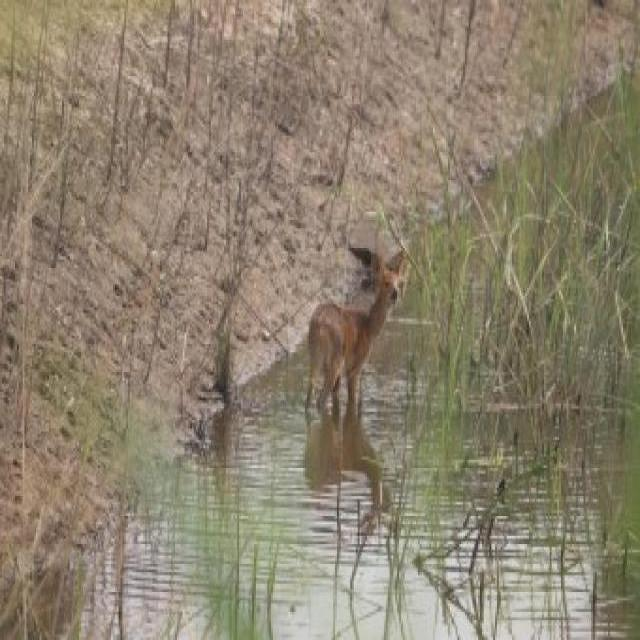deer: (260, 243, 427, 465)
